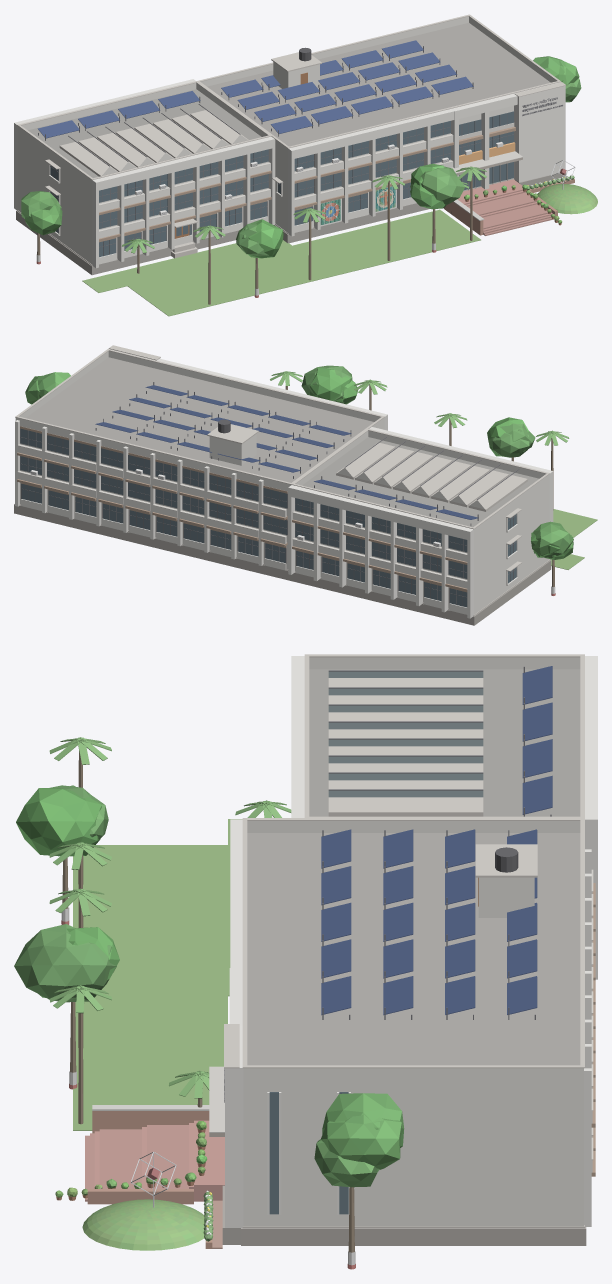
The model's file is iit_kgp_architecture_dept.glb.
3 renders of one model, top to bottom at view 1: azimuth 30°, elevation 25°; view 2: azimuth 150°, elevation 25°; view 3: azimuth 270°, elevation 25°, orthographic. The views are drawn at different scales.
Visible parts, largest first — view 1: East Block (Entrance + Sign), West Block (Atrium), Landscape + Cube Sculpture; view 2: East Block (Entrance + Sign), West Block (Atrium), Landscape + Cube Sculpture; view 3: East Block (Entrance + Sign), Landscape + Cube Sculpture, West Block (Atrium).
Boxes of the visible parts, x1,y1,x2,y2 form: East Block (Entrance + Sign): (197,14,566,243); West Block (Atrium): (14,79,275,275); Landscape + Cube Sculpture: (21,56,597,316); East Block (Entrance + Sign): (14,345,387,580); West Block (Atrium): (288,427,553,625); Landscape + Cube Sculpture: (25,365,597,595); East Block (Entrance + Sign): (55,818,595,1245); Landscape + Cube Sculpture: (14,737,404,1269); West Block (Atrium): (291,654,597,979).
Bounding box in the file's own units: 75.88 × 15.95 × 37.72.
